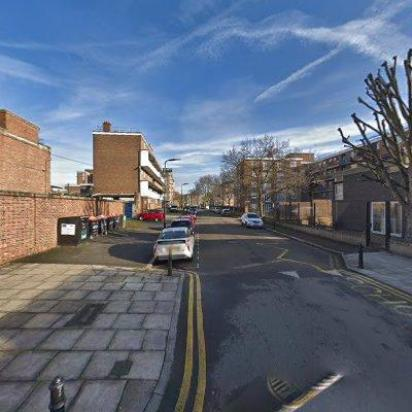stationary-car-offstreet: (136, 207, 164, 223)
stationary-car-onstreet: (154, 227, 194, 265), (239, 213, 264, 229), (170, 216, 192, 228), (219, 208, 232, 218)
stationary-light-truck-offstreet: (168, 203, 180, 213)
